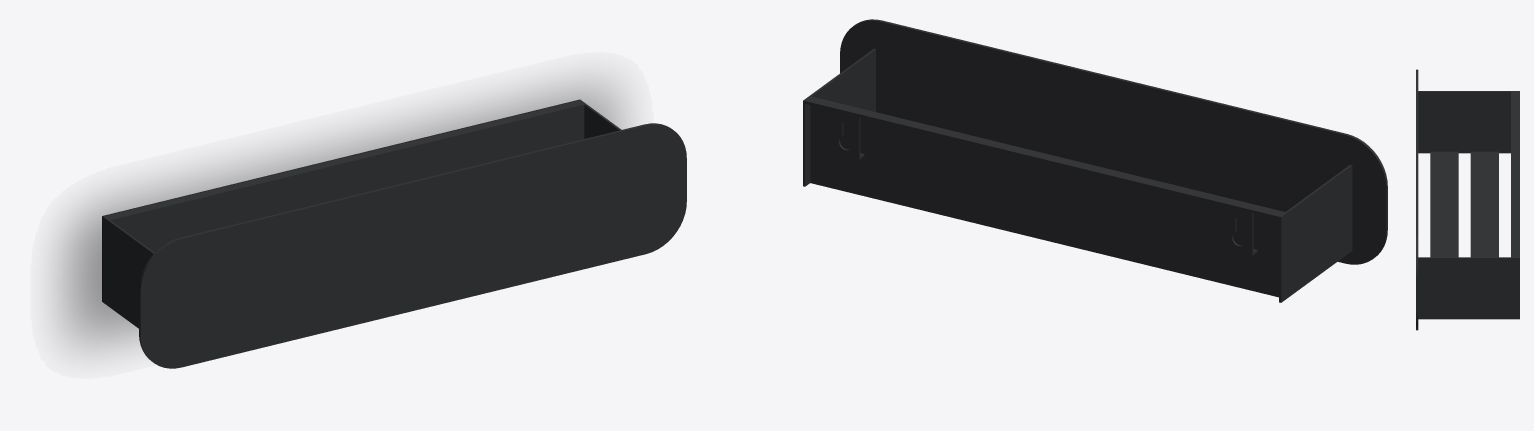
File: radius-mono.3e0c22c6a4.ar.glb
3 views of the same model, side by side, from view 1: azimuth 30°, elevation 25°; view 2: azimuth 150°, elevation 25°; view 3: azimuth 270°, elevation 25° (orthographic). The views are drawn at different scales.
Visible parts, largest first — view 1: NAUO1, object 2; view 2: NAUO1; view 3: NAUO1.
Part boxes in pixels (x1=…): NAUO1: x1=102, y1=99, x2=686, y2=368; object 2: x1=57, y1=82, x2=626, y2=348; NAUO1: x1=803, y1=19, x2=1387, y2=302; NAUO1: x1=1416, y1=69, x2=1519, y2=330.
Size of the model in its own units: 0.48 by 0.17 by 0.092.
Materials: 2 (1 with a texture image).
